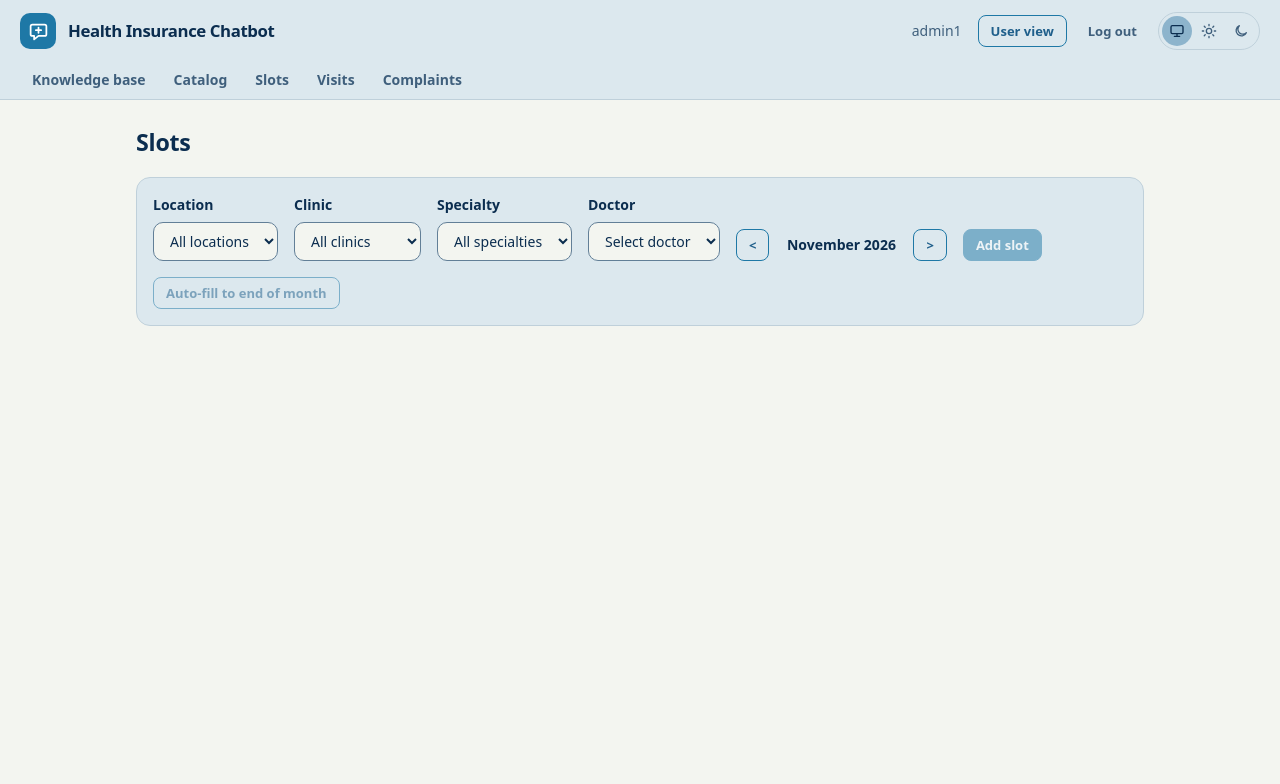
Test: AdminSlotsPage › C5: autofill names the end date and shows the created and skipped counts
Select "Dr. Sara" in the dropdown with test id "doctor-select" at point(654, 241), box [588,222,720,261]
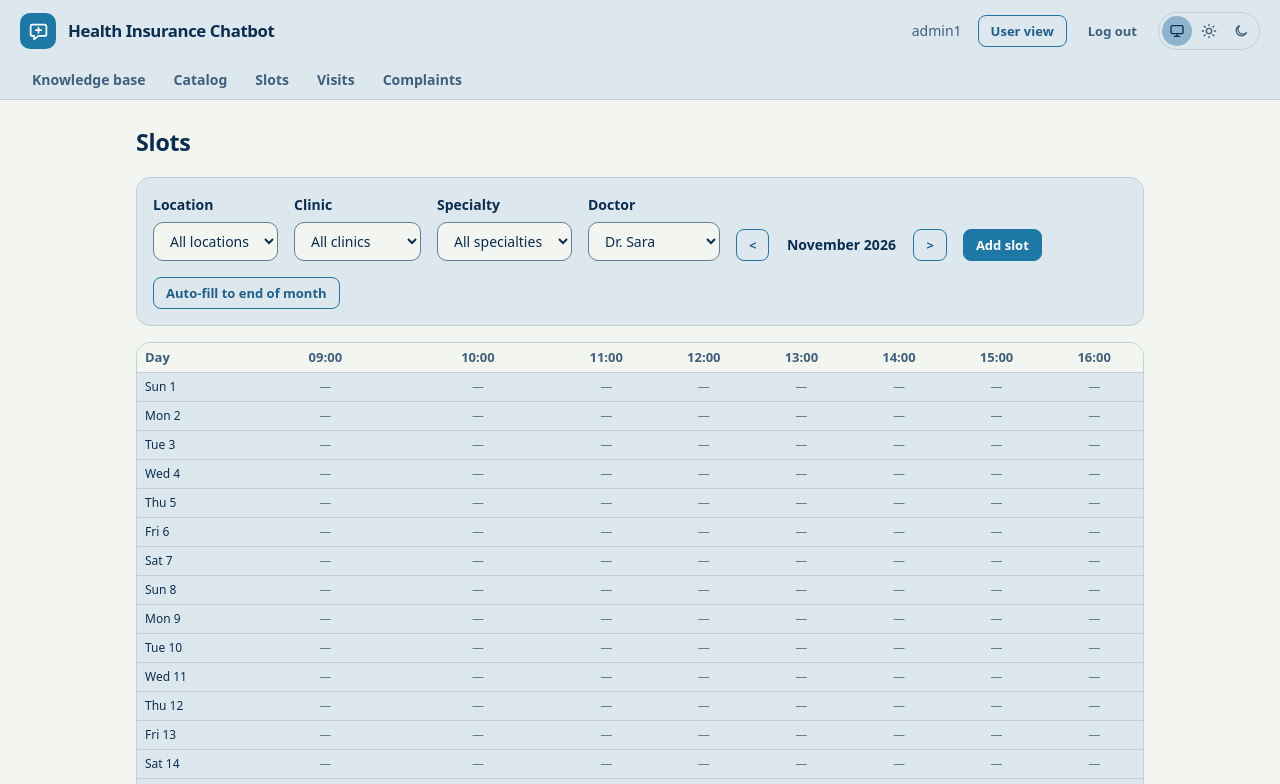
Click the button with test id "autofill-btn" at point(246, 293), box [153,277,340,309]
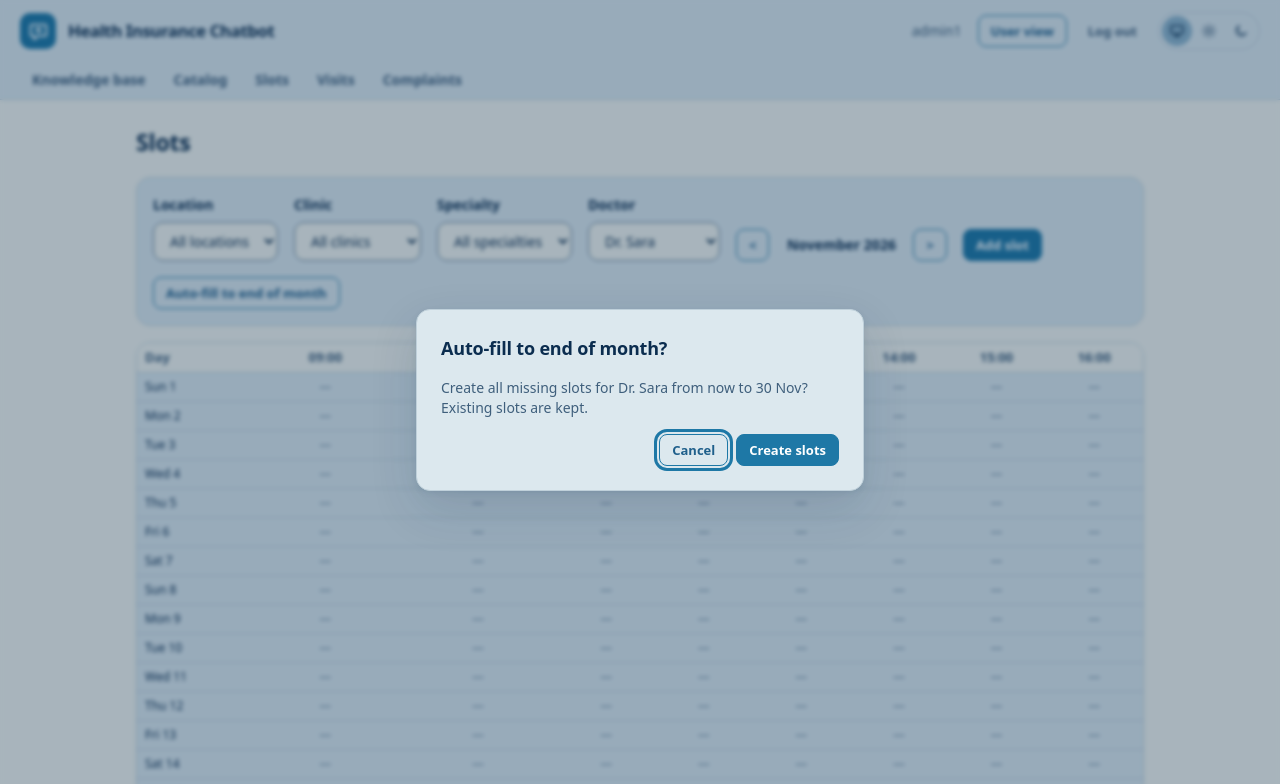
Result: the dialog shows "Create all missing slots for Dr. Sara from now to 30 Nov?" at [441,378,808,417]
Click the button with test id "confirm-yes" at point(788, 450), box [736,434,839,466]
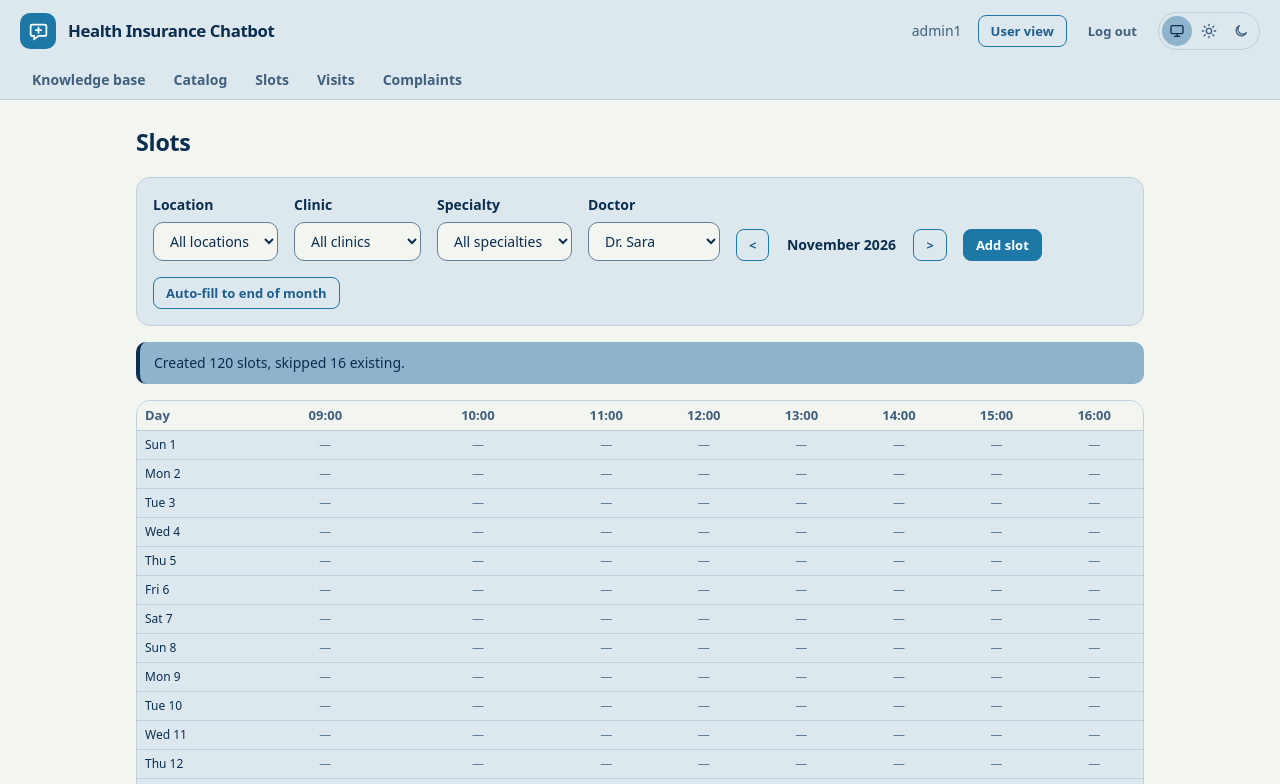
Result: the text with test id "autofill-message" reads "Created 120 slots, skipped 16 existing." at [154,353,405,372]
